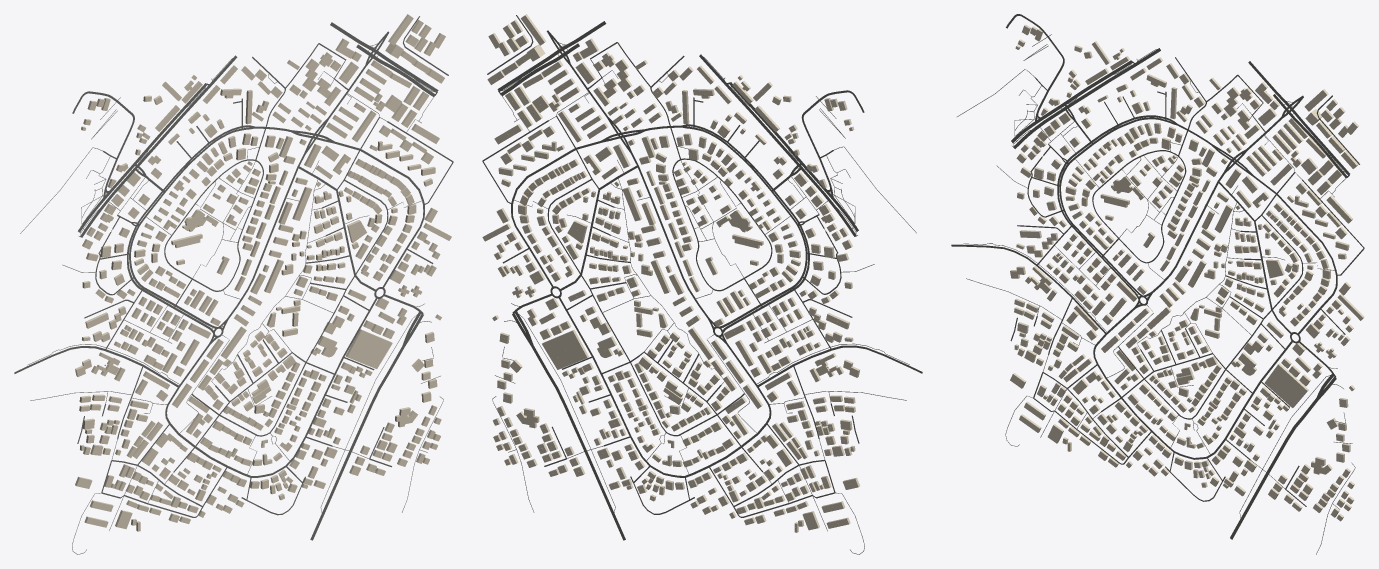
File: historic-palestine-07_25_3488_3194.glb
The picture shows the model from 3 angles, left to right: view 1: azimuth 30°, elevation 25°; view 2: azimuth 150°, elevation 25°; view 3: azimuth 330°, elevation 25°; orthographic projection. The views are drawn at different scales.
Parts seen in each view (by area): view 1: Building_, Road שדרות ירושלים; view 2: Building_, Road שדרות ירושלים; view 3: Building_, Road שדרות ירושלים.
Boxes of the visible parts, left/top/right/bottom form: Building_: left=345, top=329, right=392, bottom=368; Road שדרות ירושלים: left=310, top=346, right=404, bottom=540; Building_: left=542, top=329, right=588, bottom=369; Road שדרות ירושלים: left=531, top=345, right=625, bottom=540; Building_: left=1264, top=363, right=1308, bottom=407; Road שדרות ירושלים: left=1230, top=398, right=1318, bottom=539.
Bounding box in the file's own units: 1161 × 1298 × 26.
